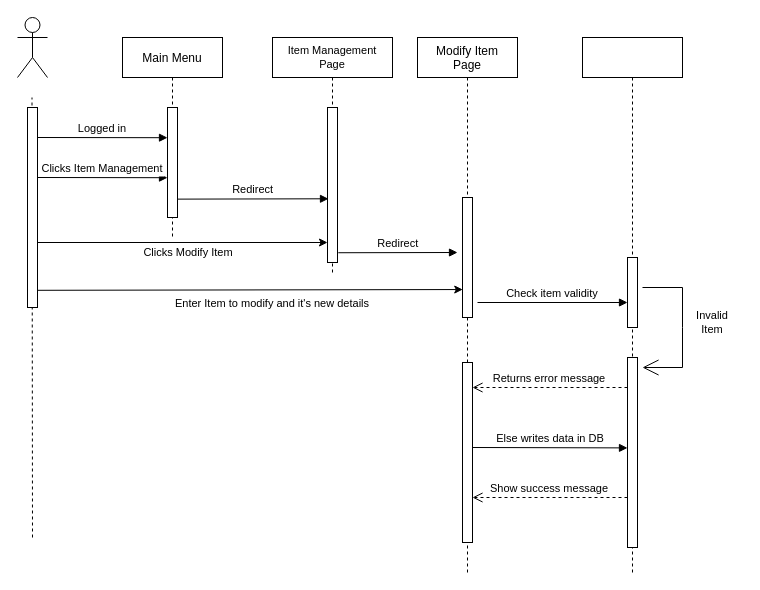
Some shapes in this 760 by 590 pixel diagram are drawn without their labels. Each missing label, with the centre of its shape:
Actor: [32,47]
DB: [632,304]
